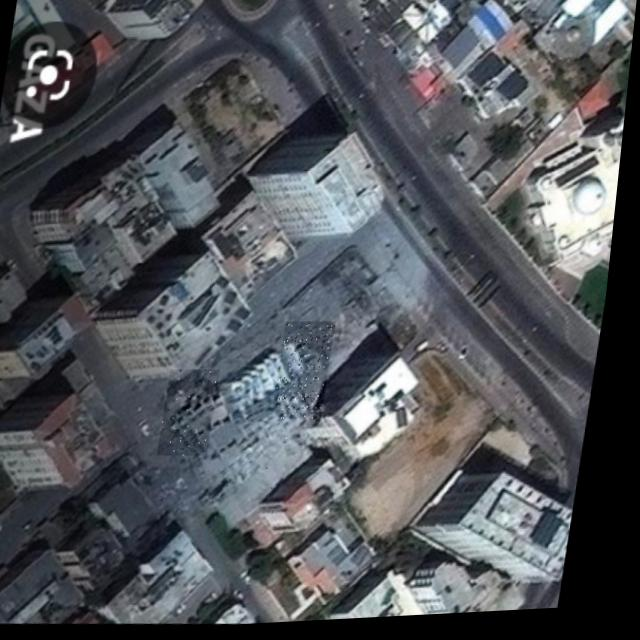Rubble: (211, 421, 300, 505), (279, 323, 342, 425), (166, 370, 227, 460)
